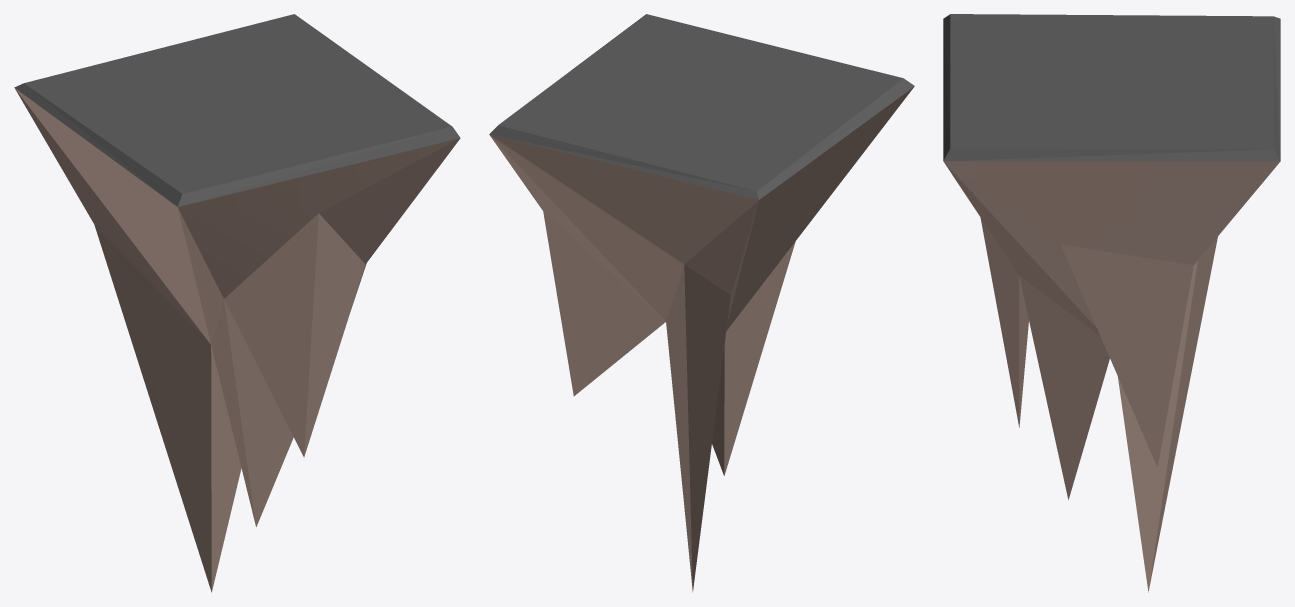
3 views of the same model, side by side, from view 1: azimuth 30°, elevation 25°; view 2: azimuth 150°, elevation 25°; view 3: azimuth 270°, elevation 25° (orthographic). The views are drawn at different scales.
Parts seen in each view (by area): view 1: mesh1926919455; view 2: mesh1926919455; view 3: mesh1926919455.
Boxes of the visible parts, <box> form: mesh1926919455: <box>14,14,460,592</box>; mesh1926919455: <box>489,14,914,592</box>; mesh1926919455: <box>943,14,1280,592</box>.
Bounding box in the file's own units: 27.84 × 47.12 × 27.84.
